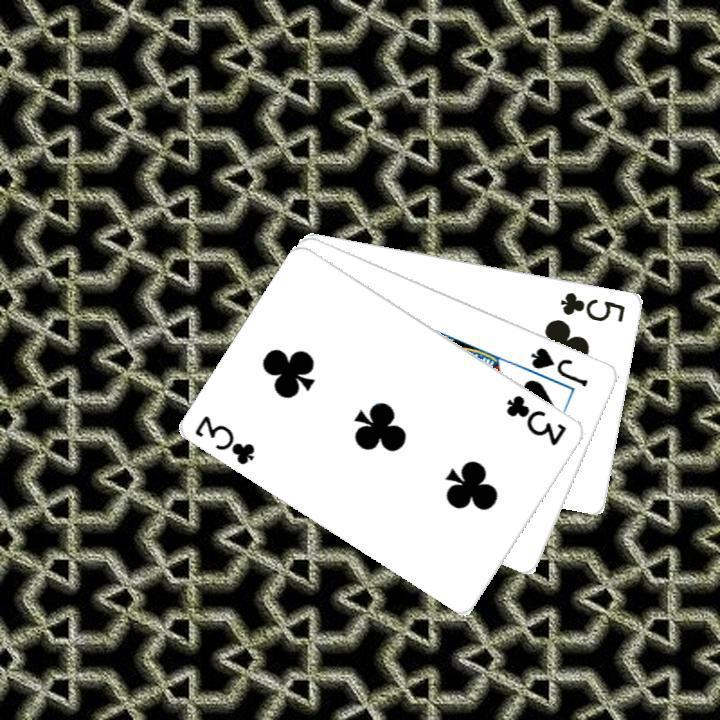3: (502, 390, 570, 448), (190, 410, 258, 467)
5: (557, 287, 628, 324)
J: (526, 342, 591, 389)
